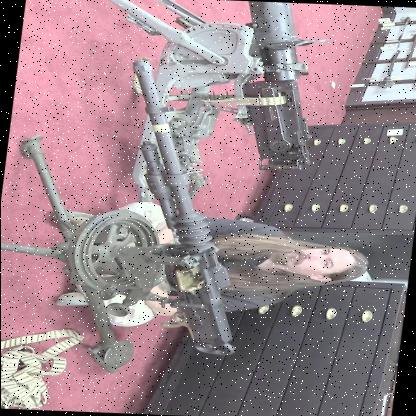rifle: (93, 61, 274, 364)
